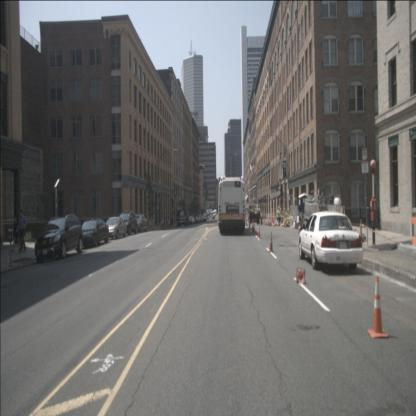human-pedestrian-adult: (15, 209, 28, 254), (11, 211, 22, 253)
movable_object-trafficcone: (368, 276, 388, 338), (296, 267, 306, 284), (358, 219, 364, 242), (269, 231, 274, 253), (293, 210, 297, 228), (257, 224, 261, 239), (252, 220, 256, 233), (251, 220, 254, 231), (248, 218, 251, 229), (285, 212, 287, 228), (272, 222, 277, 227), (245, 215, 247, 226), (268, 216, 270, 226), (265, 217, 267, 226)
vehicle-bus-rigid: (218, 176, 246, 235)
vehicle-car: (299, 211, 363, 271), (35, 214, 83, 263), (78, 219, 109, 247), (104, 217, 127, 240), (117, 211, 138, 236), (133, 214, 148, 233)
vehicle-truck: (176, 210, 190, 227)
